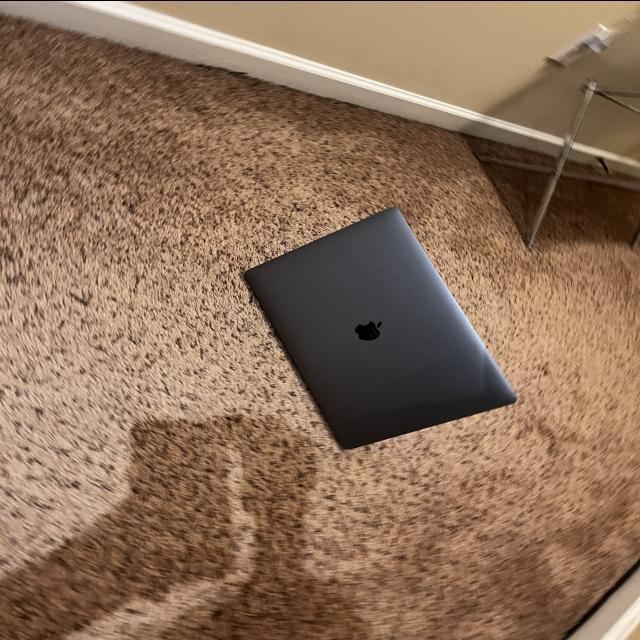laptop: (242, 205, 518, 450)
